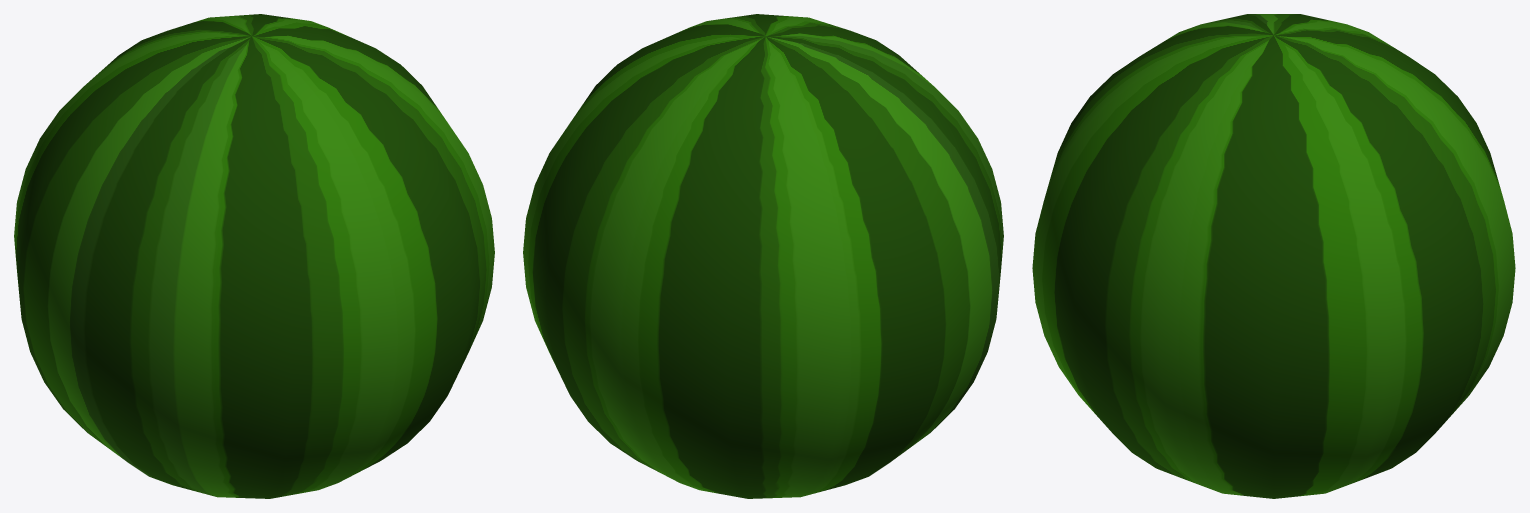
The model's file is Fruit_WatermelonWhole.fbx.
3 views of the same model, side by side, from view 1: azimuth 30°, elevation 25°; view 2: azimuth 150°, elevation 25°; view 3: azimuth 270°, elevation 25° (orthographic).
Parts seen in each view (by area): view 1: Wayermelon_Whole; view 2: Wayermelon_Whole; view 3: Wayermelon_Whole.
Part boxes in pixels (bbox=[...]): Wayermelon_Whole: bbox=[14, 14, 494, 498]; Wayermelon_Whole: bbox=[523, 14, 1003, 498]; Wayermelon_Whole: bbox=[1032, 14, 1515, 498].
Size of the model in its own units: 5.87 by 5.96 by 5.92.
Materials: 1 (1 with a texture image).
